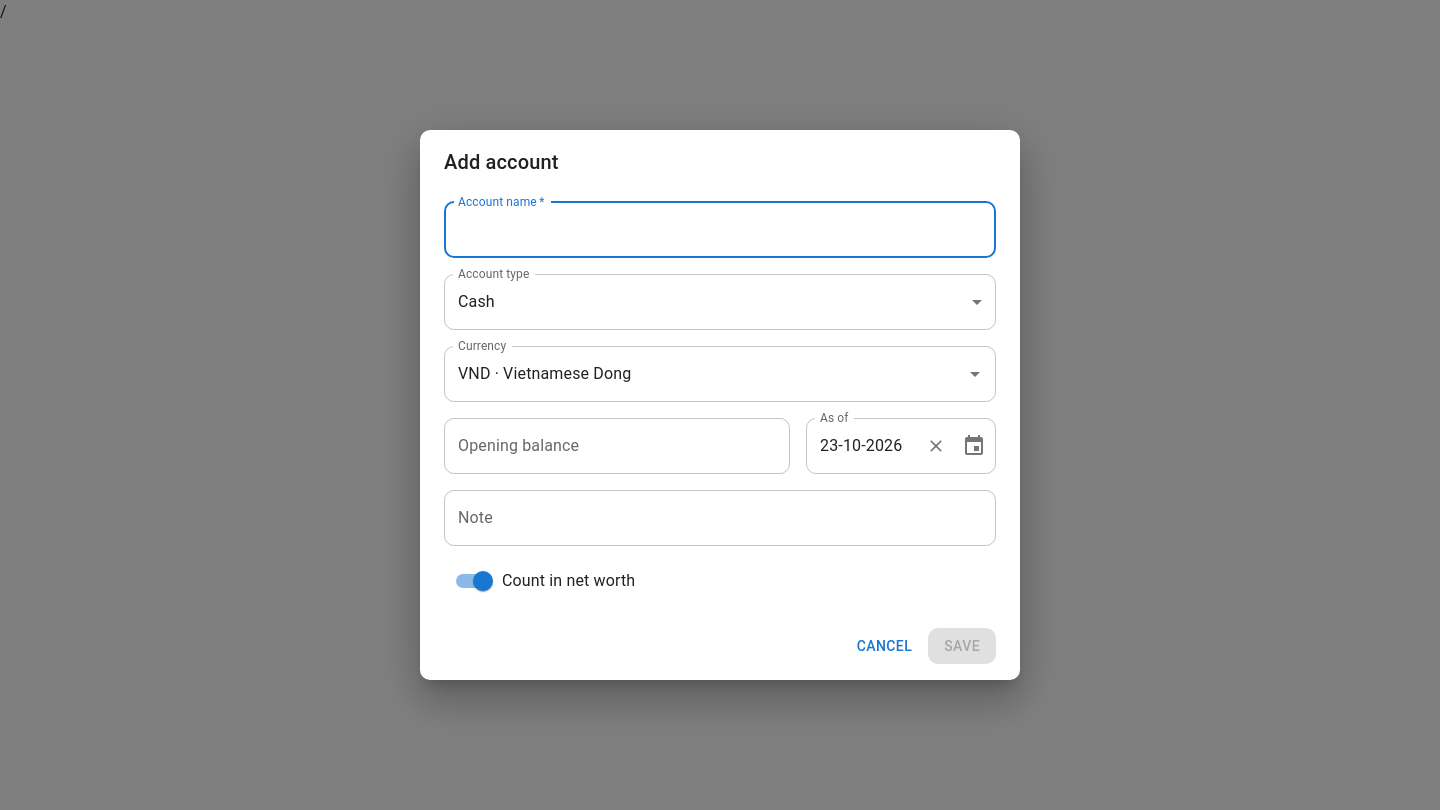
Test case: fields that follow the kind and currency › waits for a whole date before a new account can be saved
Type "Wallet" into the field labelled "Account name *" at (720, 230), box [444,202,996,258]
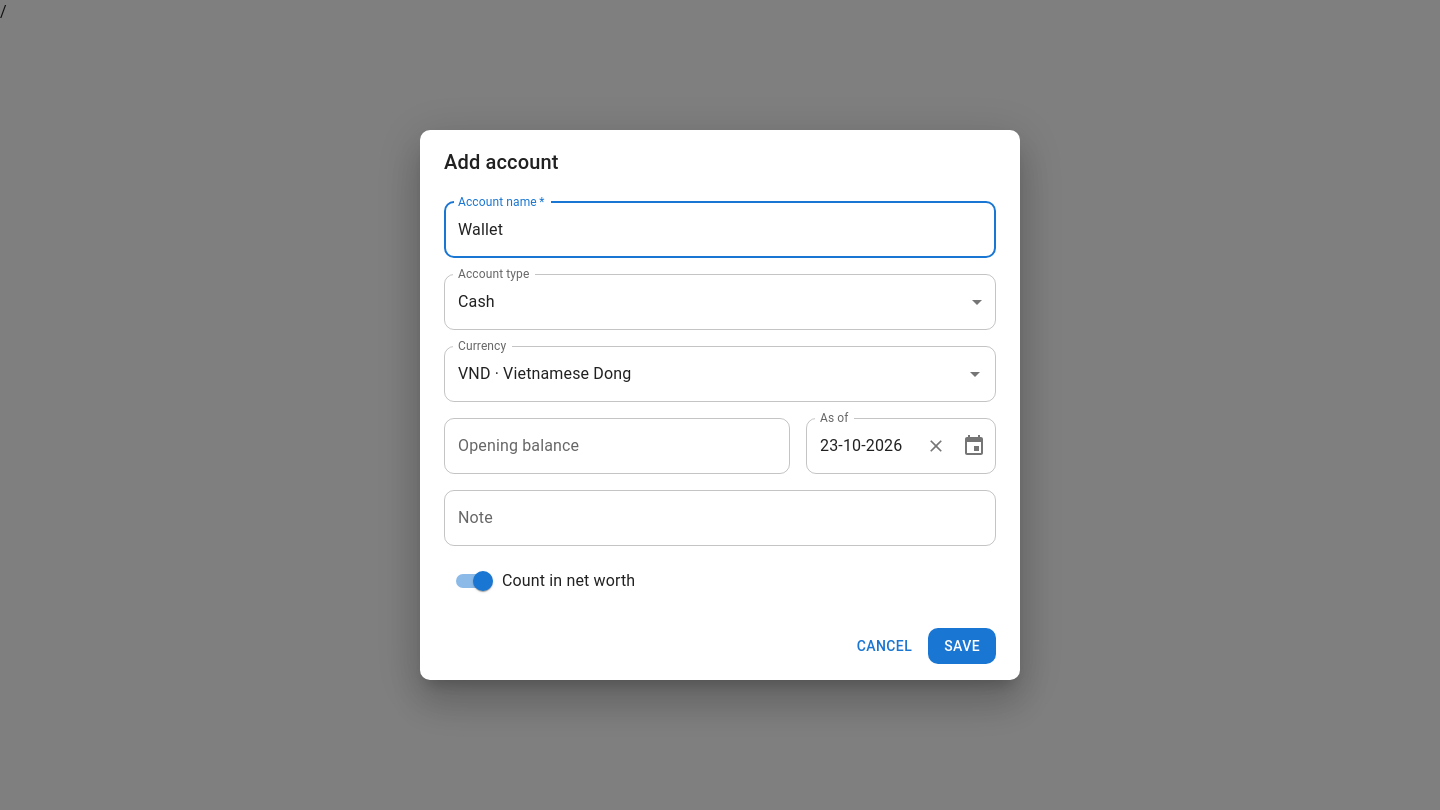
Expected: the button "Save" is enabled, [928,628,996,664]
Click the number field labelled "23" at (829, 446), box [820,436,838,455]
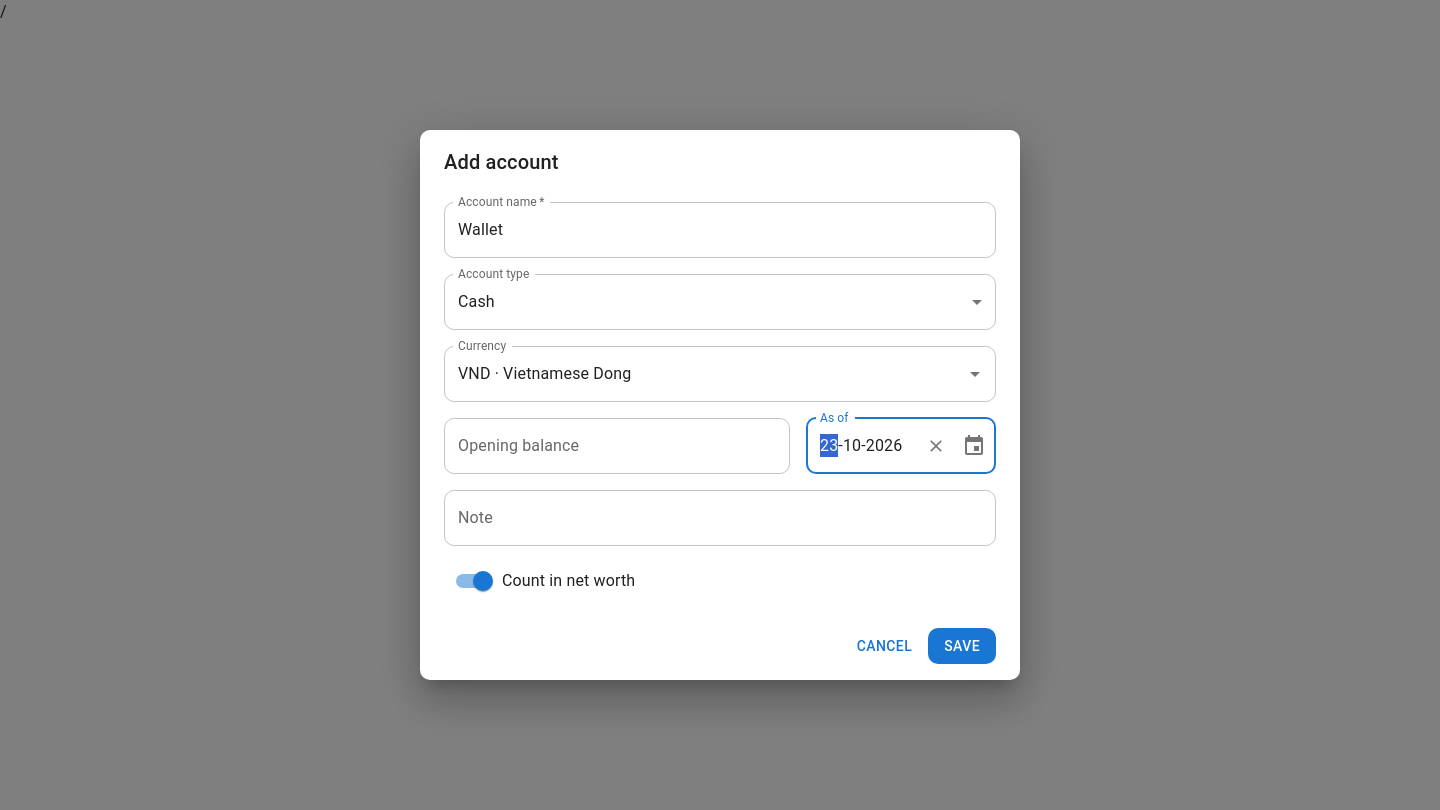
Clear the number field labelled "23" at (829, 446), box [820,436,838,455]
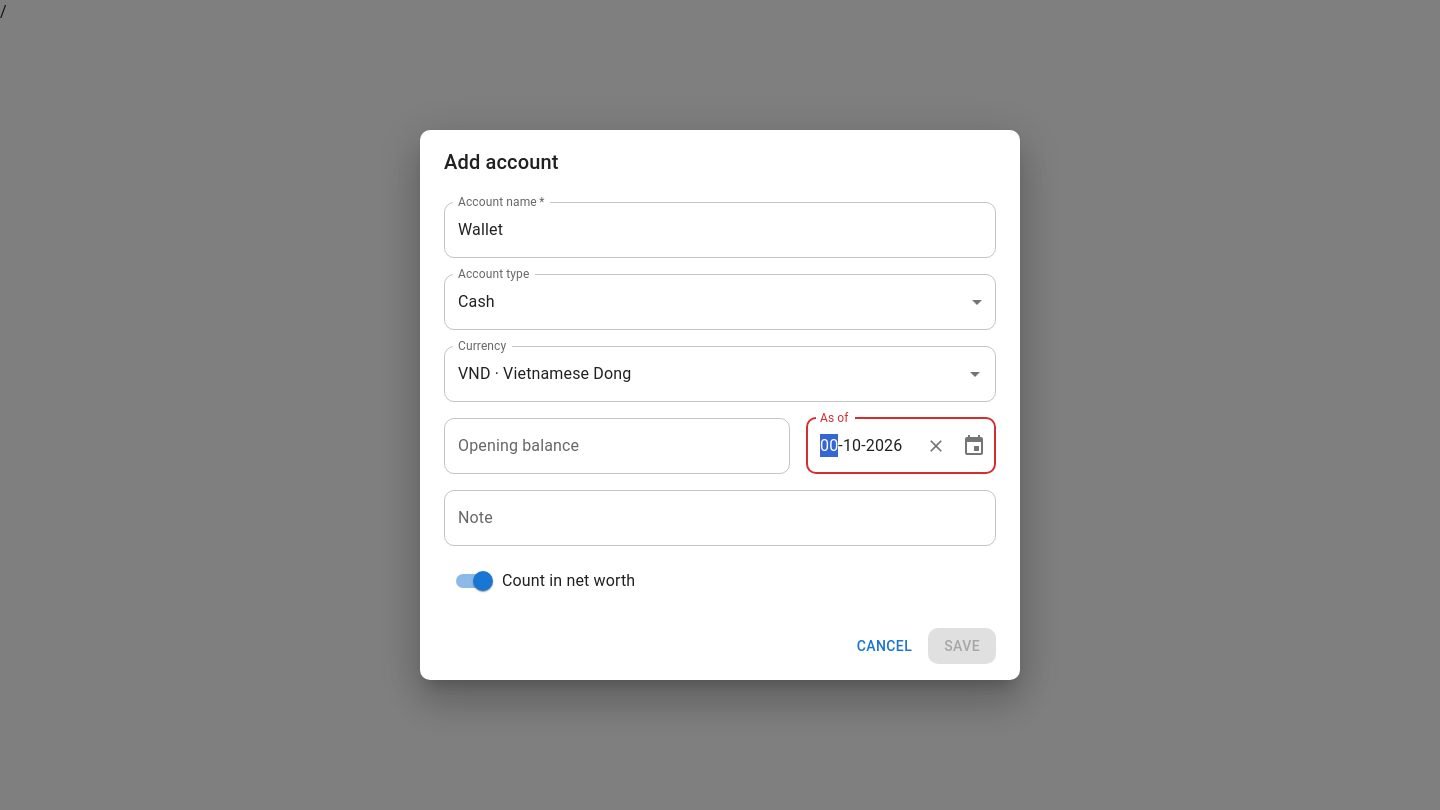
Expected: the button "Save" is disabled, [928,628,996,664]
Clear the number field labelled "00" at (829, 446), box [820,436,838,455]
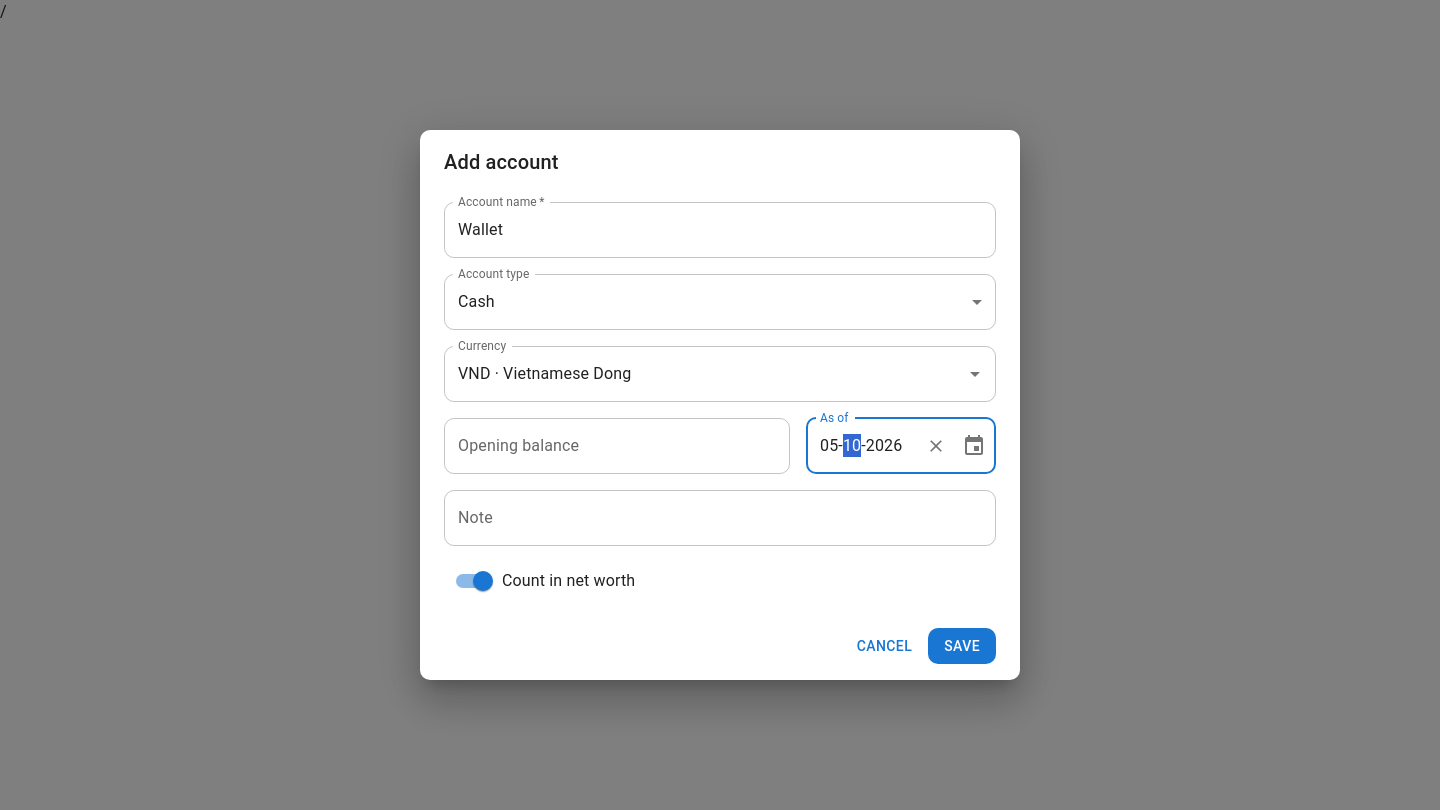
Expected: the button "Save" is enabled, [928,628,996,664]
